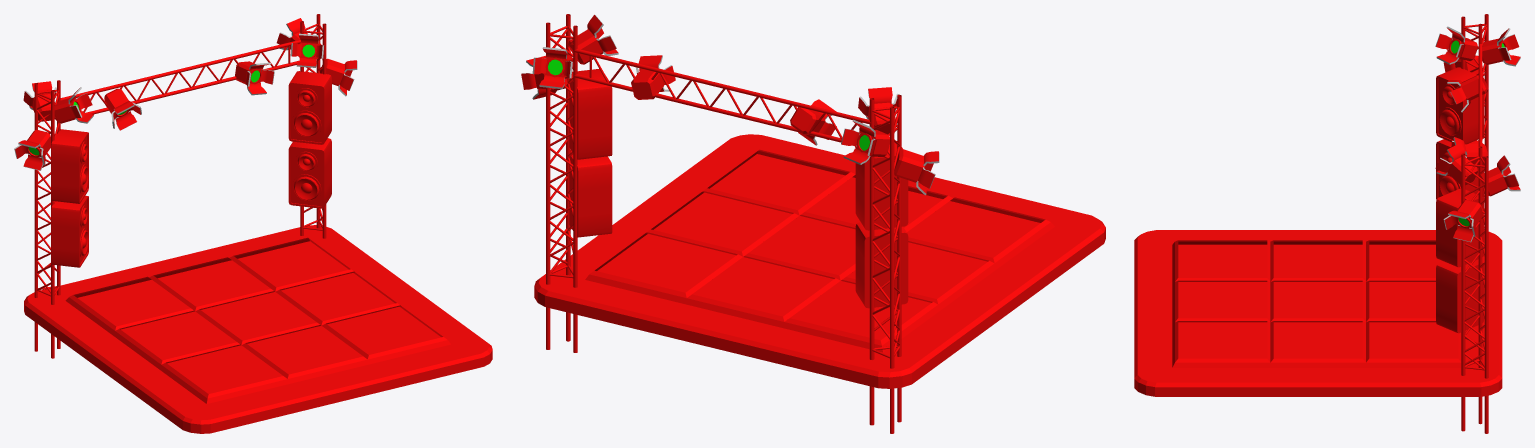
File: other_parts.fbx
3 renders of one model, left to right at view 1: azimuth 30°, elevation 25°; view 2: azimuth 150°, elevation 25°; view 3: azimuth 270°, elevation 25°, orthographic. The views are drawn at different scales.
Visible parts, largest first — view 1: transform1; view 2: transform1; view 3: transform1.
Part boxes in pixels (box(x1,y1,x2,y2)): transform1: box(14, 14, 492, 433); transform1: box(521, 14, 1105, 433); transform1: box(1134, 14, 1520, 433).
Bounding box in the file's own units: 5.24 × 5 × 3.94.
